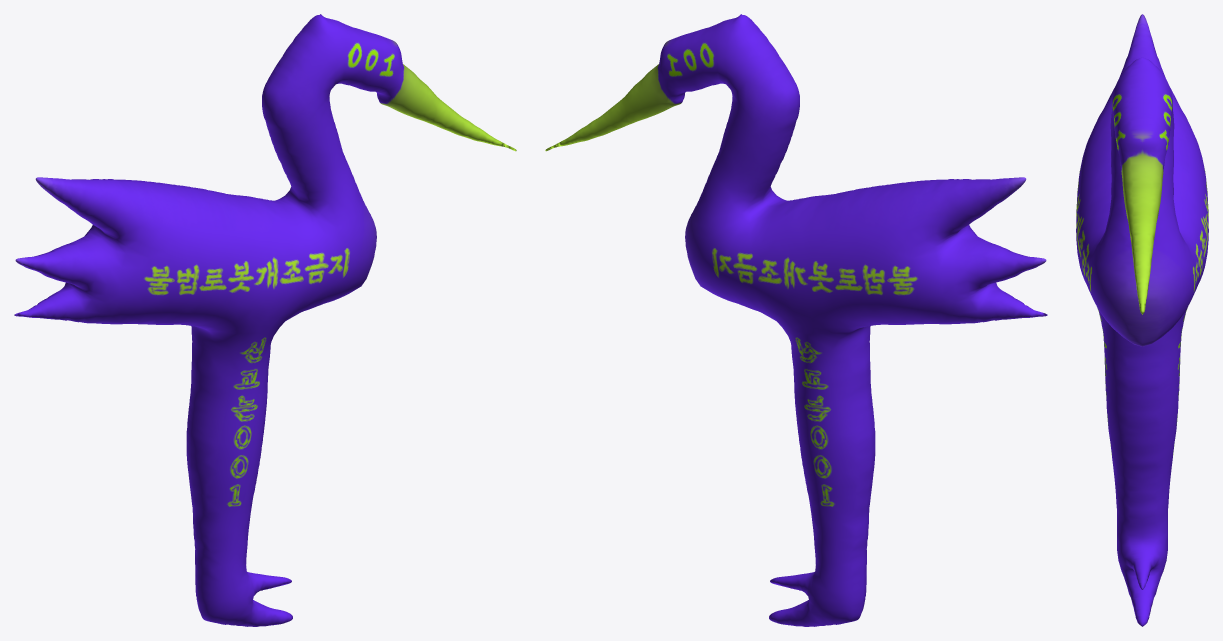
Rendered from Bird0.glb.
3 views of the same model, side by side, from view 1: azimuth 30°, elevation 25°; view 2: azimuth 150°, elevation 25°; view 3: azimuth 270°, elevation 25° (orthographic). The views are drawn at different scales.
Size of the model in its own units: 5.52 by 6.3 by 1.3.
Materials: 1 (1 with a texture image).
